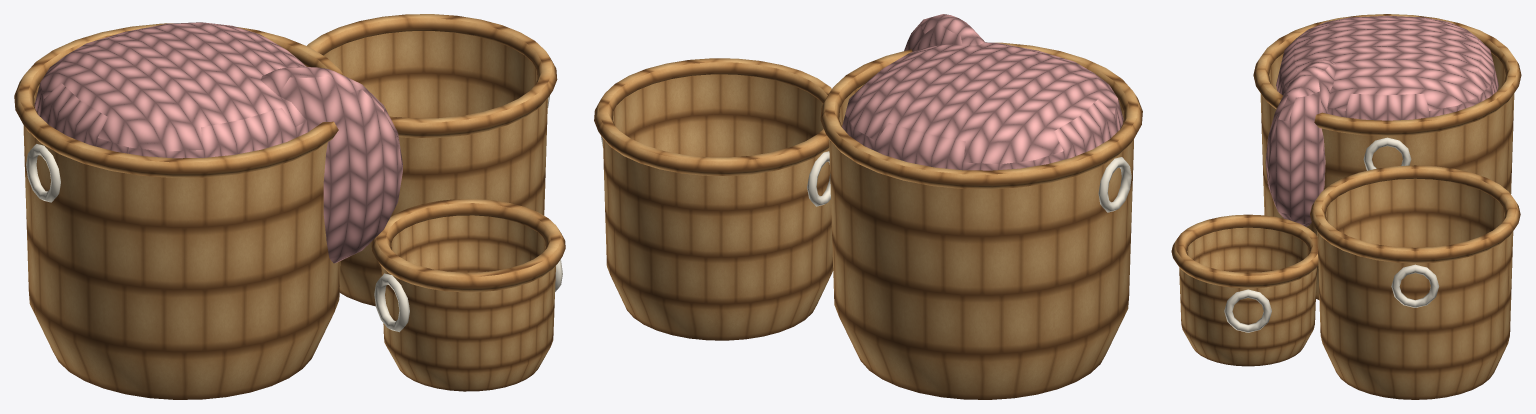
File: basket_trio.glb
3 renders of one model, left to right at view 1: azimuth 30°, elevation 25°; view 2: azimuth 150°, elevation 25°; view 3: azimuth 270°, elevation 25°, orthographic. The views are drawn at different scales.
Visible parts, largest first — view 1: model; view 2: model; view 3: model.
Boxes of the visible parts, left/top/right/bottom form: model: left=14, top=14, right=565, bottom=399; model: left=594, top=14, right=1142, bottom=399; model: left=1171, top=14, right=1521, bottom=399.
Bounding box in the file's own units: 0.8497 × 0.456 × 0.6282.
3 materials, 3 textured.
